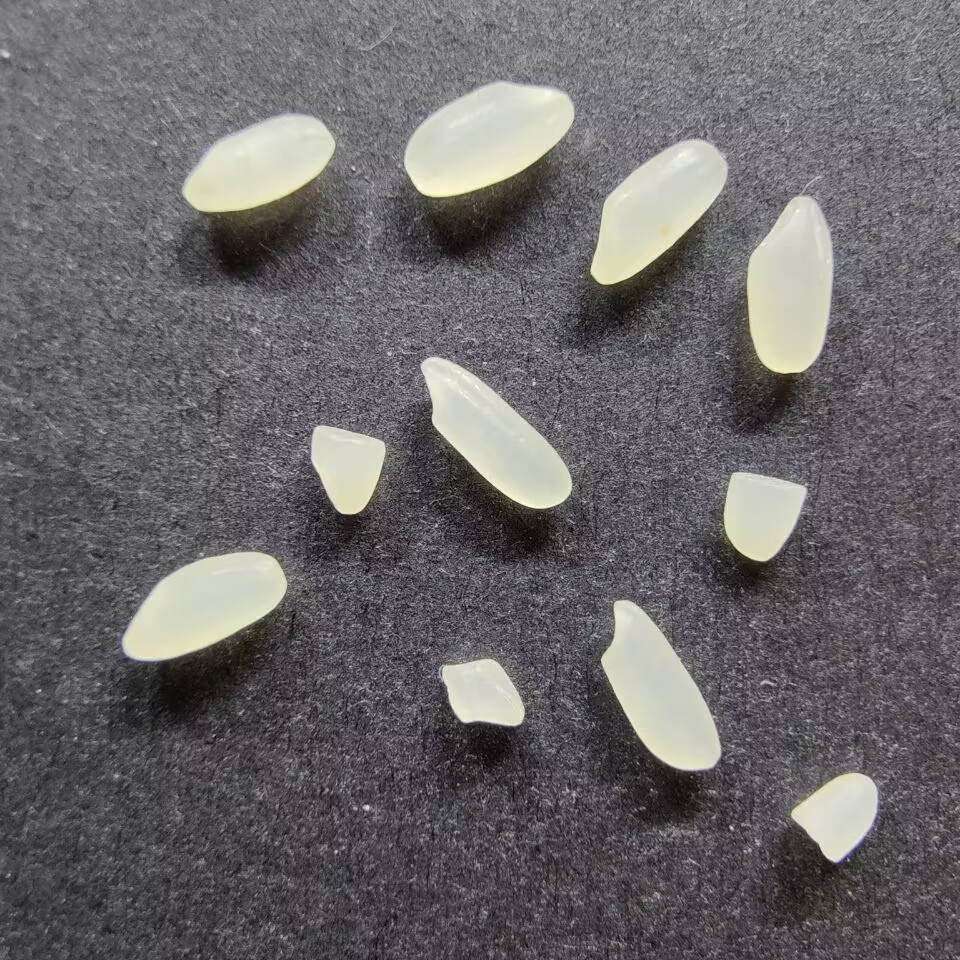broken: (789, 770, 880, 864), (721, 470, 806, 562), (309, 422, 387, 516), (439, 658, 526, 729)
rice: (418, 356, 572, 510), (599, 598, 723, 773), (588, 138, 729, 286), (402, 81, 575, 199), (120, 550, 287, 663), (745, 194, 833, 374), (181, 112, 336, 214)
